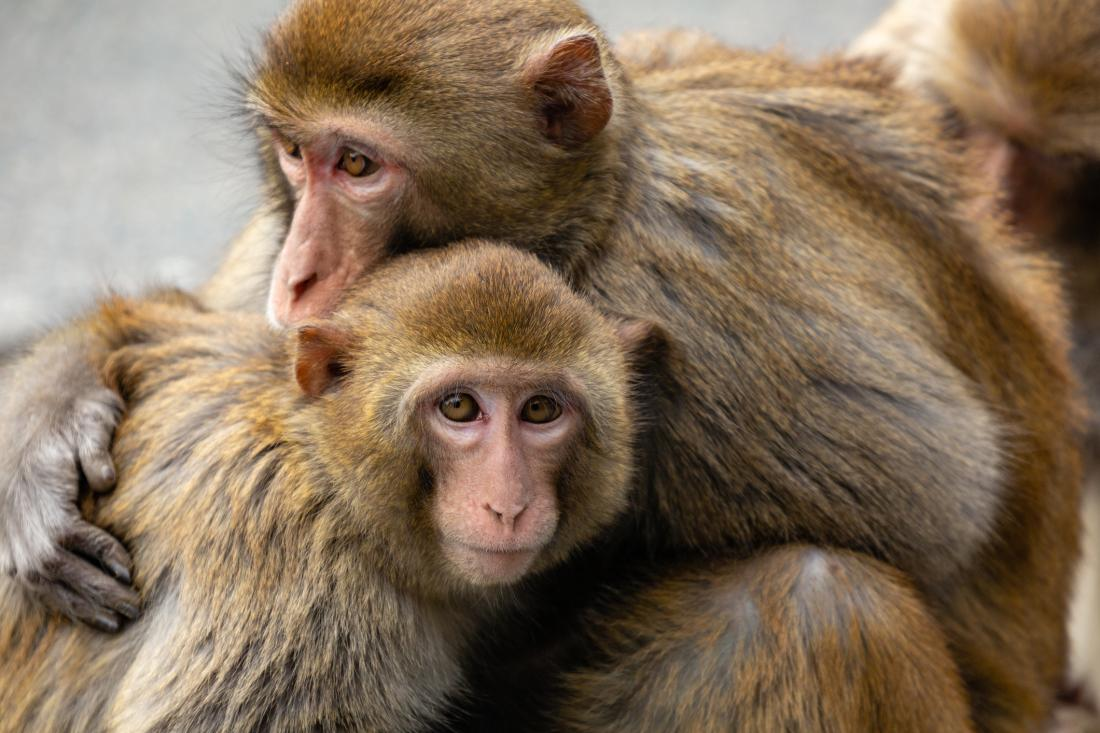monkey: (234, 2, 1079, 733), (4, 236, 669, 733), (864, 1, 1100, 258)
